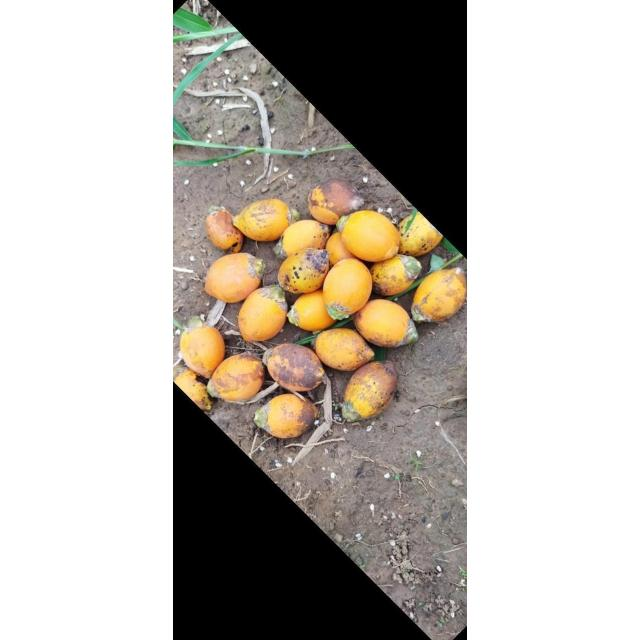good: (339, 360, 398, 420), (322, 258, 374, 320), (340, 210, 400, 262), (352, 300, 416, 348), (264, 343, 326, 392), (412, 268, 466, 322), (253, 394, 319, 438), (204, 253, 262, 303), (208, 353, 266, 402), (237, 286, 287, 342), (314, 328, 376, 370), (308, 178, 364, 224), (232, 200, 292, 242), (277, 248, 331, 294), (396, 210, 444, 258), (180, 326, 224, 378), (368, 254, 422, 296), (288, 290, 339, 332), (277, 220, 331, 258), (205, 208, 243, 252), (174, 366, 212, 410), (326, 232, 358, 268), (204, 274, 222, 300), (180, 328, 193, 356), (454, 266, 466, 290), (284, 290, 300, 308), (382, 212, 394, 224), (306, 192, 310, 206)
